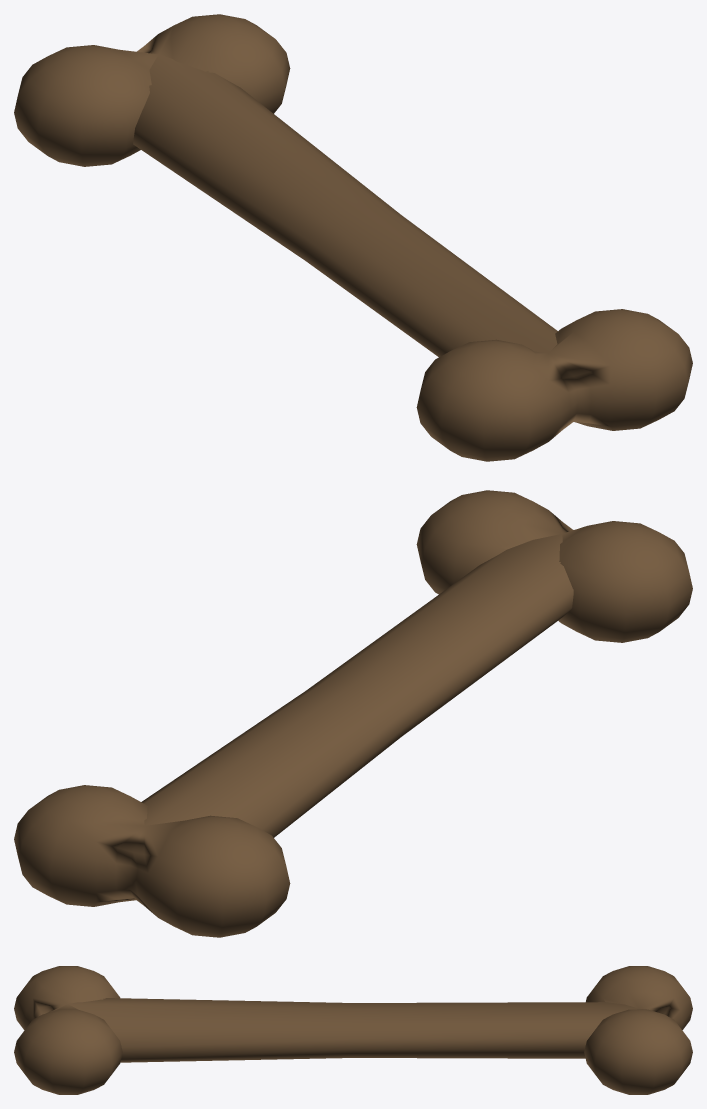
File: dogbone brown.fbx
3 views of the same model, one above another, from view 1: azimuth 30°, elevation 25°; view 2: azimuth 150°, elevation 25°; view 3: azimuth 270°, elevation 25° (orthographic). The views are drawn at different scales.
Parts seen in each view (by area): view 1: Dog Bone Brown; view 2: Dog Bone Brown; view 3: Dog Bone Brown.
Part boxes in pixels (x1,y1,x2,y2): Dog Bone Brown: [14, 14, 692, 461]; Dog Bone Brown: [14, 490, 692, 937]; Dog Bone Brown: [14, 966, 692, 1094].
Size of the model in its own units: 26.13 by 10.27 by 85.96.
